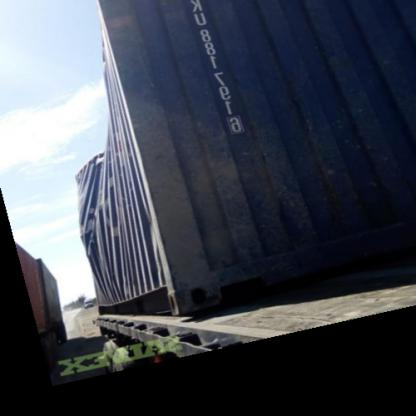Damage: (64, 158, 126, 302), (135, 198, 164, 274)
